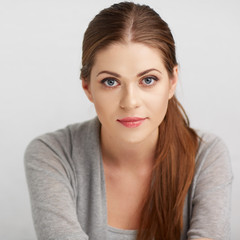teen: (85, 6, 173, 144)
